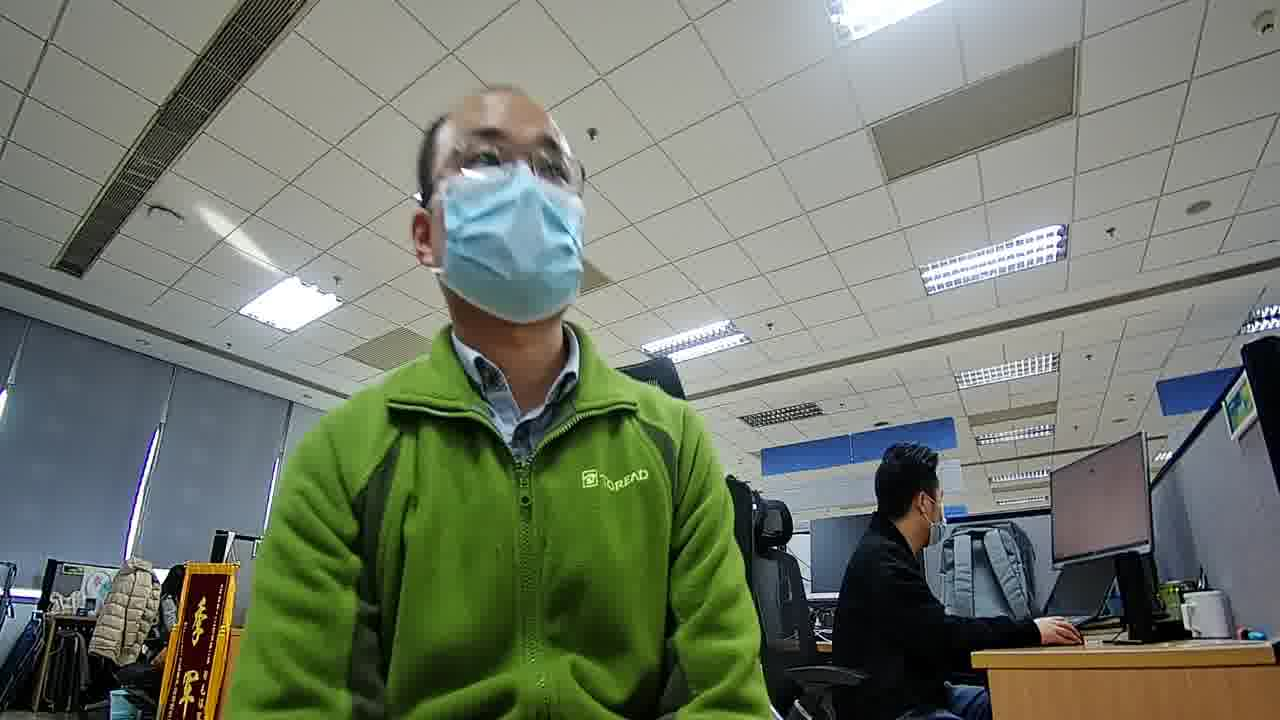face: (435, 104, 583, 326)
mask: (437, 162, 580, 324)
person: (290, 71, 716, 478), (841, 438, 954, 605), (156, 560, 187, 610)
